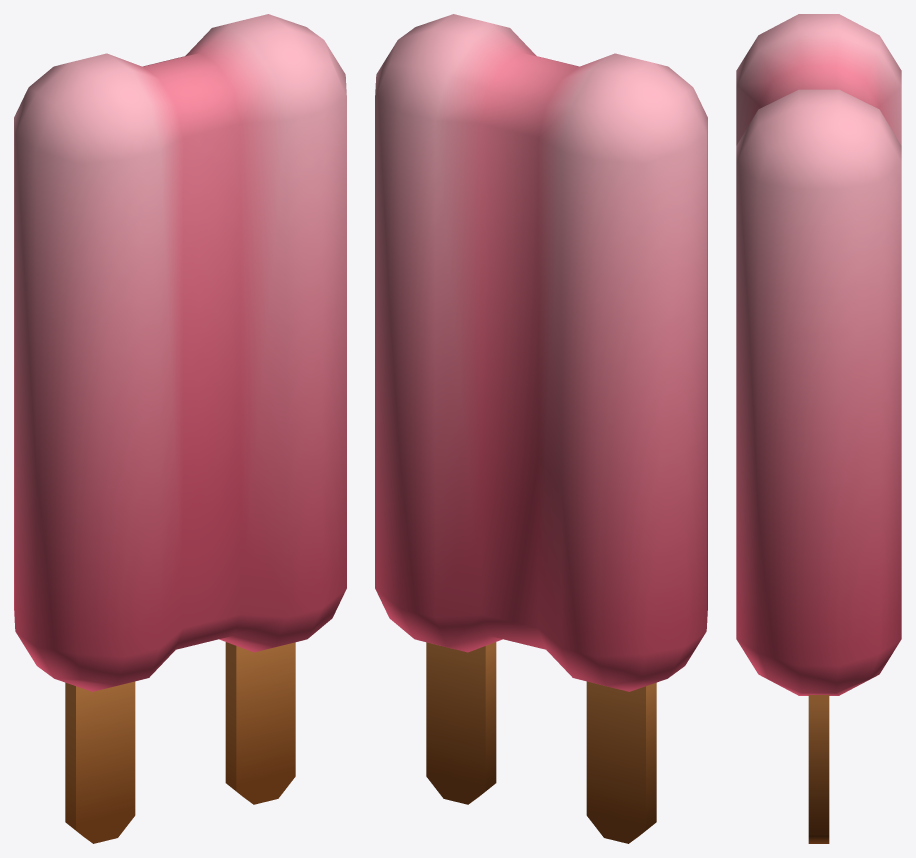
Rendered from m_DoublePopsicle01.fbx.
3 views of the same model, side by side, from view 1: azimuth 30°, elevation 25°; view 2: azimuth 150°, elevation 25°; view 3: azimuth 270°, elevation 25° (orthographic). The views are drawn at different scales.
Visible parts, largest first — view 1: m_DoublePopsicle01_L, m_DoublePopsicle01_R; view 2: m_DoublePopsicle01_L, m_DoublePopsicle01_R; view 3: m_DoublePopsicle01_R, m_DoublePopsicle01_L.
Boxes of the visible parts, x1,y1,x2,y2 form: m_DoublePopsicle01_L: (14,53,211,843); m_DoublePopsicle01_R: (159,14,346,804); m_DoublePopsicle01_L: (510,53,707,843); m_DoublePopsicle01_R: (375,14,562,804); m_DoublePopsicle01_R: (736,80,901,843); m_DoublePopsicle01_L: (736,14,901,145).
Size of the model in its own units: 9.64 by 22.99 by 4.64.
